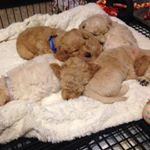puppy: (47, 46, 150, 105), (14, 24, 96, 61), (78, 12, 138, 49)
